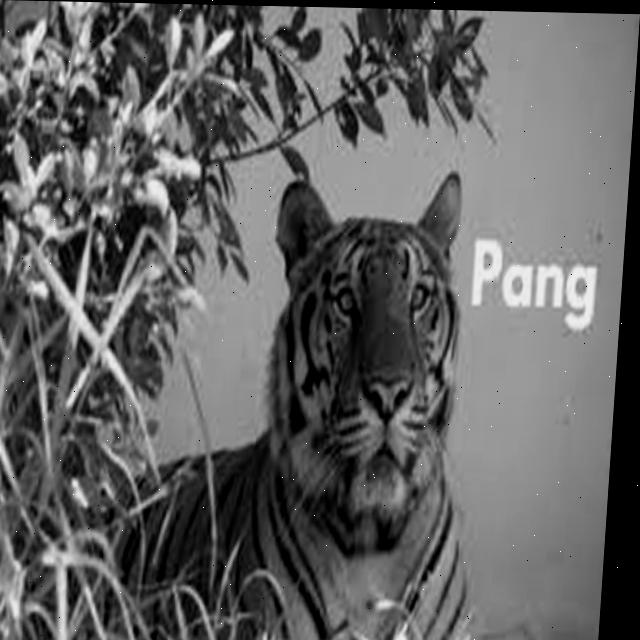Tiger: (87, 163, 510, 640)
